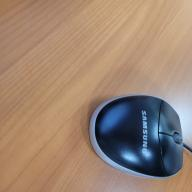mouse: (88, 92, 186, 182)
